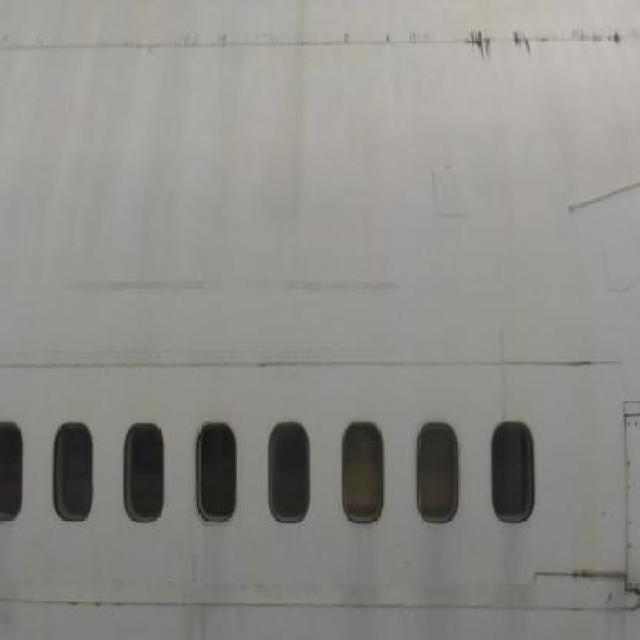Rust: (453, 23, 630, 69), (567, 554, 640, 611)
Scartch: (62, 269, 423, 313)
